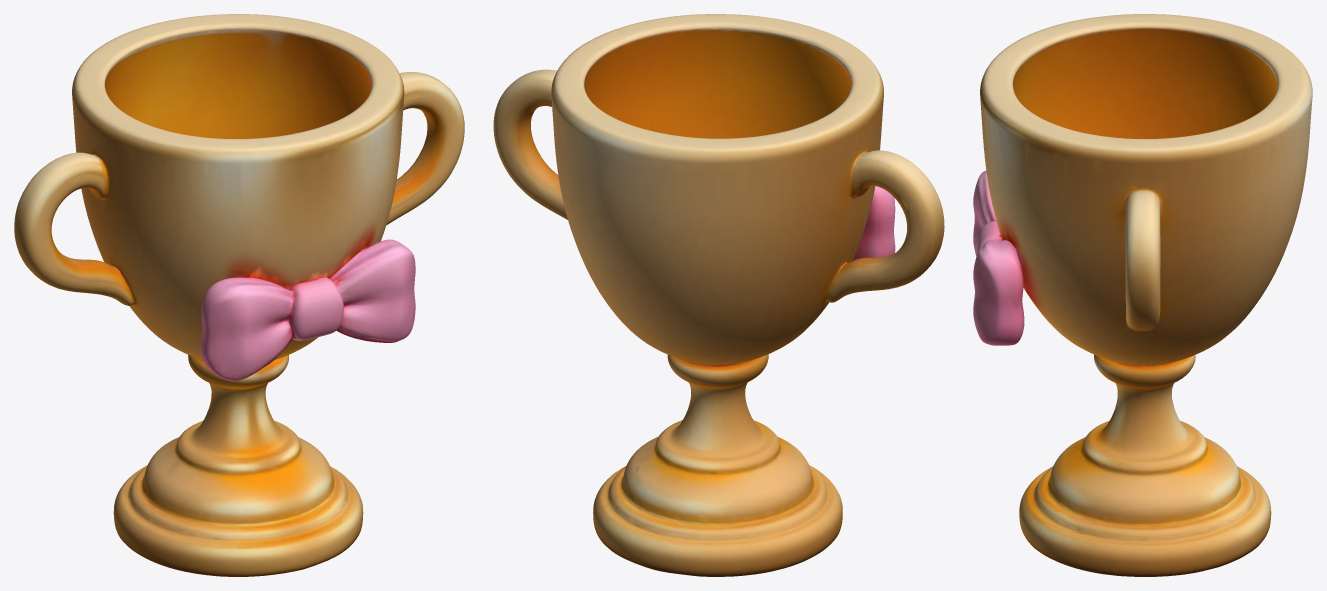
3 renders of one model, left to right at view 1: azimuth 30°, elevation 25°; view 2: azimuth 150°, elevation 25°; view 3: azimuth 270°, elevation 25°, orthographic.
Visible parts, largest first — view 1: node_0; view 2: node_0; view 3: node_0.
Part boxes in pixels (x1,y1,x2,y2): node_0: [14, 14, 464, 576]; node_0: [493, 14, 944, 576]; node_0: [973, 14, 1312, 576].
Size of the model in its own units: 1.01 by 0.9729 by 0.6702.
Materials: 1 (1 with a texture image).
